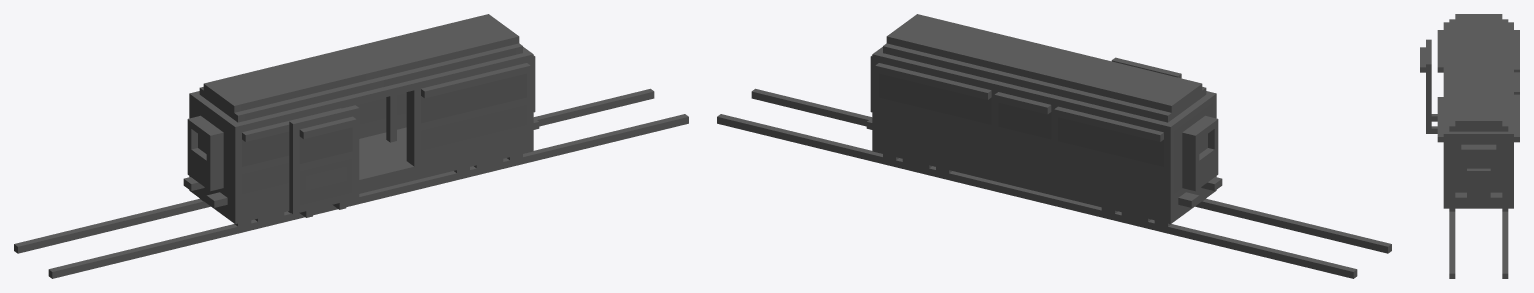
The model's file is scene_train.obj.
The picture shows the model from 3 angles, left to right: view 1: azimuth 30°, elevation 25°; view 2: azimuth 150°, elevation 25°; view 3: azimuth 270°, elevation 25°; orthographic projection. The views are drawn at different scales.
Bounding box in the file's own units: 96 × 18 × 17.
